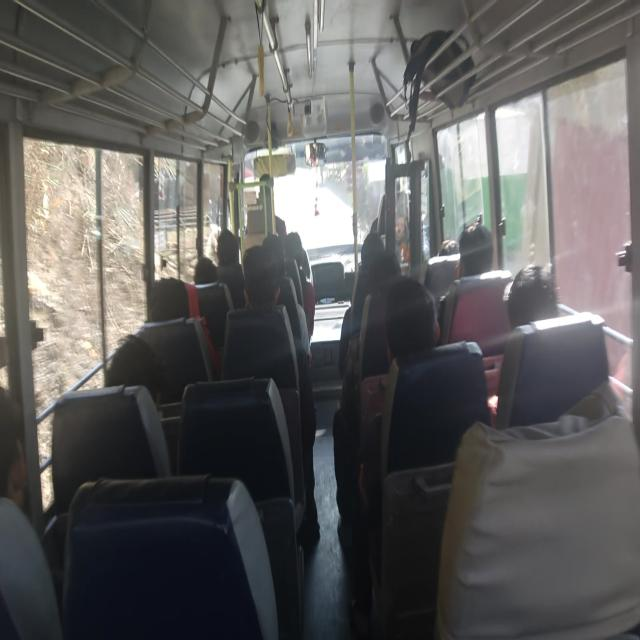person: (380, 282, 456, 372), (11, 387, 46, 560), (108, 328, 166, 411), (495, 262, 555, 330), (449, 229, 504, 284), (143, 274, 191, 328), (371, 256, 414, 310), (244, 258, 280, 313), (196, 246, 226, 296), (221, 226, 254, 268), (262, 228, 286, 278), (282, 219, 306, 262), (439, 224, 465, 258), (361, 233, 389, 259)
